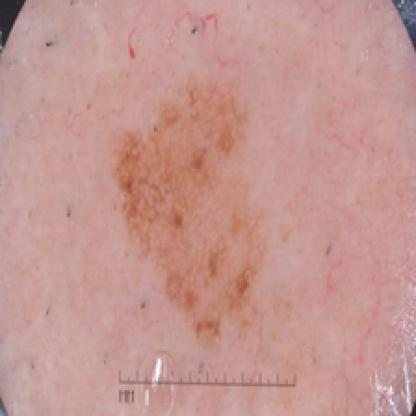malignant: (117, 85, 258, 303)
